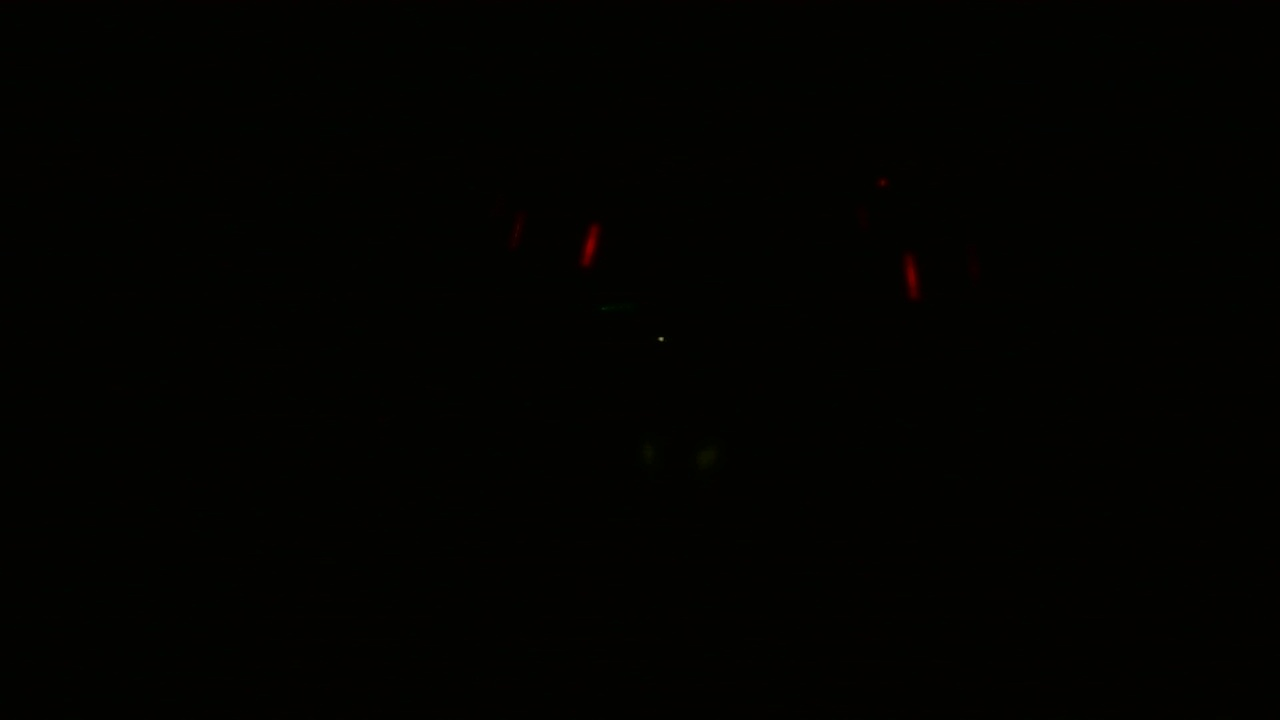pair1: (903, 249, 928, 302)
